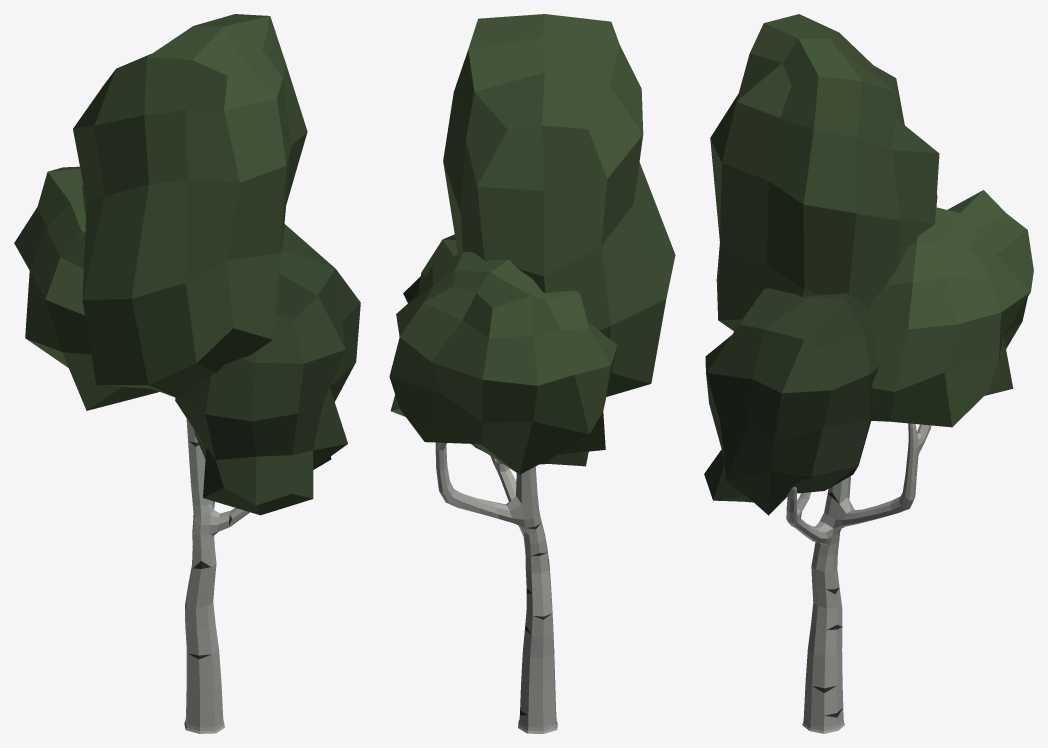
Rendered from BirchTree_3.glb.
The picture shows the model from 3 angles, left to right: view 1: azimuth 30°, elevation 25°; view 2: azimuth 150°, elevation 25°; view 3: azimuth 270°, elevation 25°; orthographic projection. The views are drawn at different scales.
Parts seen in each view (by area): view 1: BirchTree_3; view 2: BirchTree_3; view 3: BirchTree_3.
Boxes of the visible parts, x1,y1,x2,y2 form: BirchTree_3: (14, 14, 360, 733); BirchTree_3: (389, 14, 675, 733); BirchTree_3: (704, 14, 1033, 733).
Bounding box in the file's own units: 1.57 × 4.09 × 1.77.
